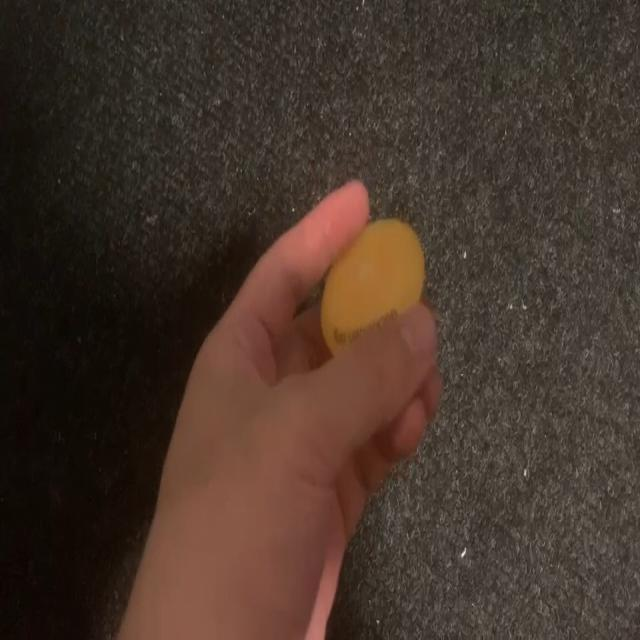rubber-duck: (320, 218, 423, 350)
